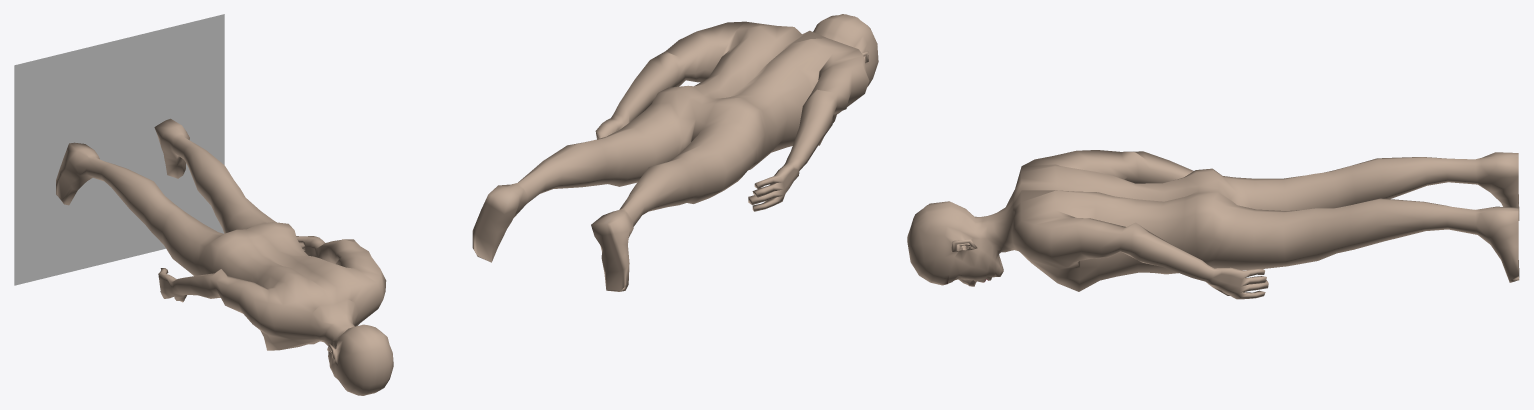
Rendered from human_avatar.glb.
3 views of the same model, side by side, from view 1: azimuth 30°, elevation 25°; view 2: azimuth 150°, elevation 25°; view 3: azimuth 270°, elevation 25° (orthographic). The views are drawn at different scales.
Visible parts, largest first — view 1: Plane, body; view 2: body; view 3: body.
Boxes of the visible parts, <box> form: Plane: <box>14,14,224,285</box>; body: <box>56,118,393,395</box>; body: <box>472,14,878,291</box>; body: <box>907,150,1519,299</box>.
Bounding box in the file's own units: 2.9 × 2.9 × 6.19.
